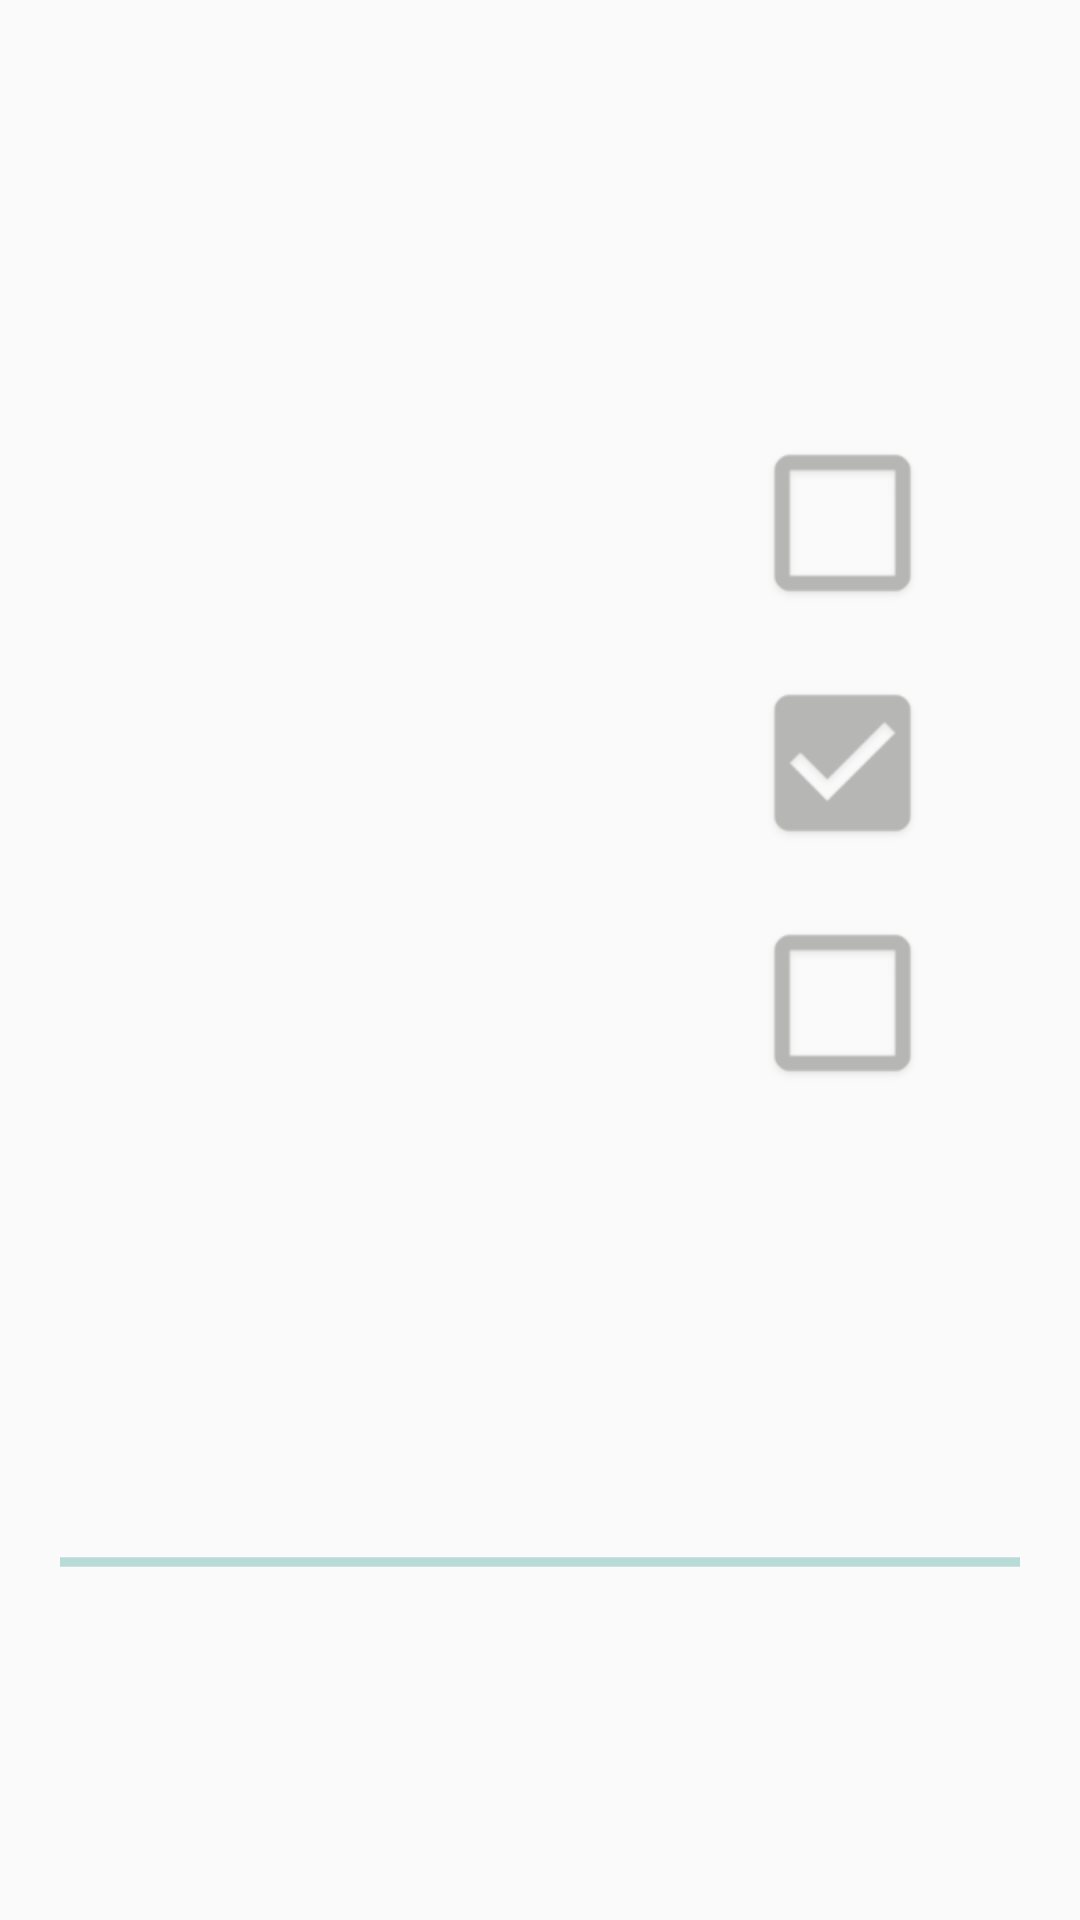

Locate icon controls on the screen. Image size 1080 × 1920, boxes as (x1, y1, x2, y2).
check: (774, 694, 911, 832)
uncheck: (774, 454, 911, 592), (774, 934, 911, 1072)
